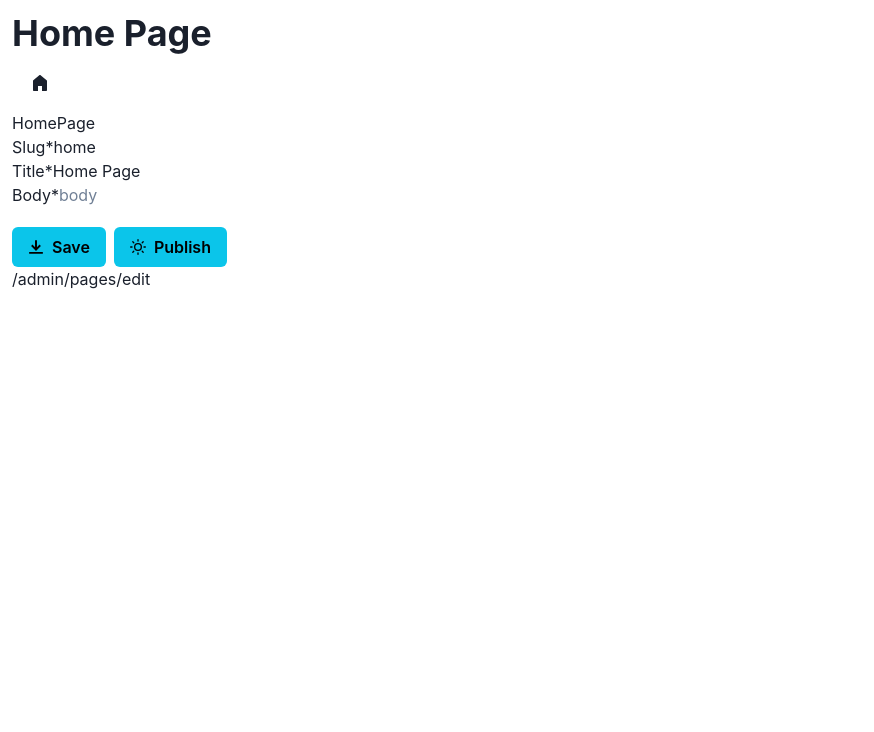
Test: As a user, I can edit existing pages › <PageEdit /> › Update the root page using the edition form
Replace the text in the field labelled "Title" with "New Value": x=177, y=171 [53, 159, 301, 183]
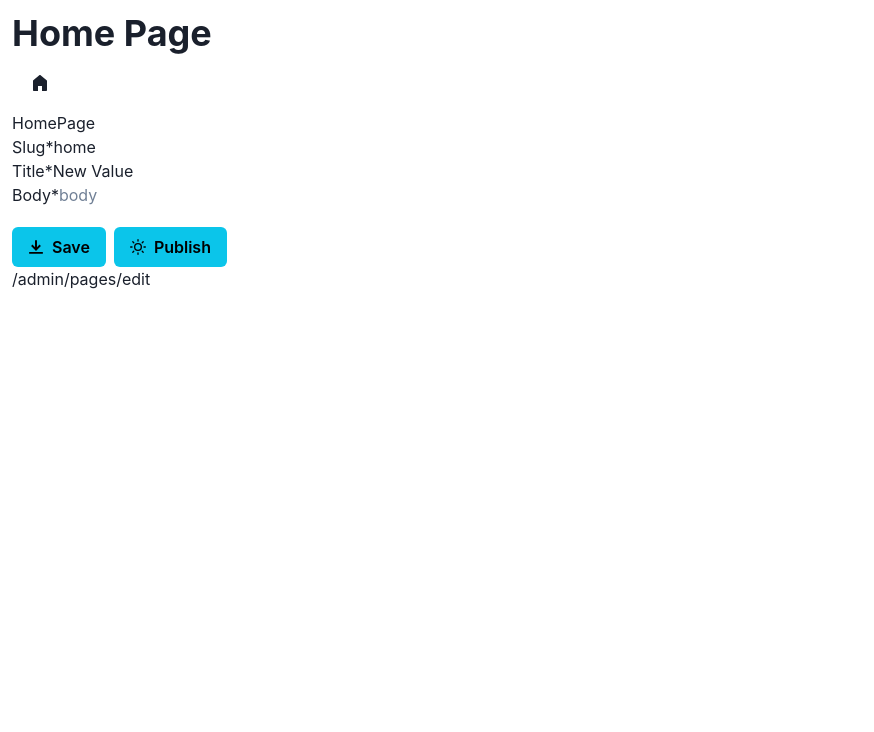
In the field labelled "Body": x=183, y=195 [59, 183, 307, 207], type "Long time ago"
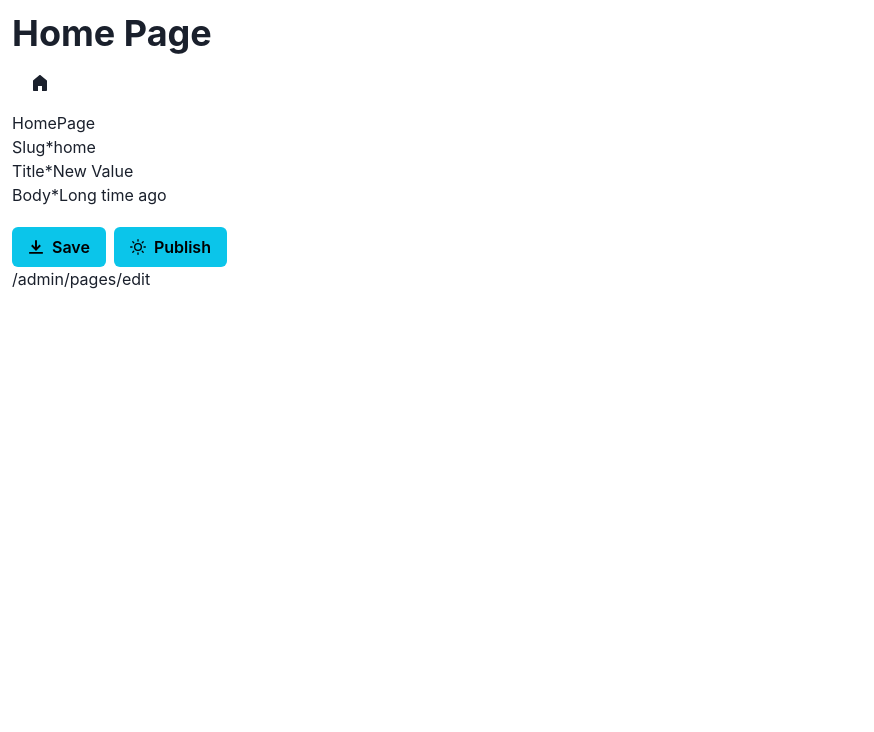
Click the button "Save": x=59, y=247 [12, 227, 106, 267]
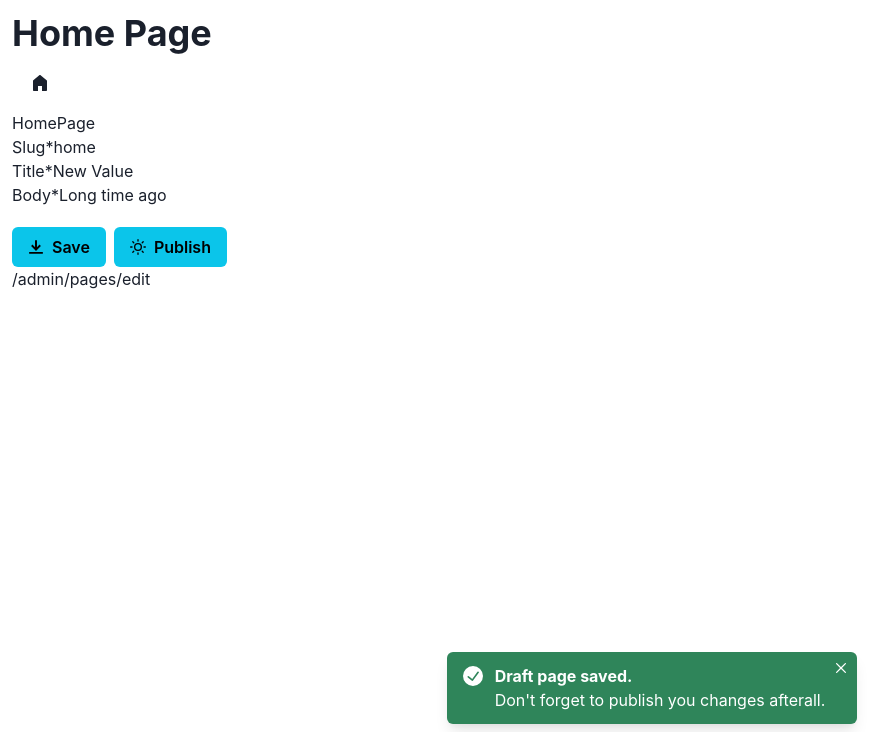
Check: the text "Draft page saved." is shown, box [495, 666, 632, 686]
